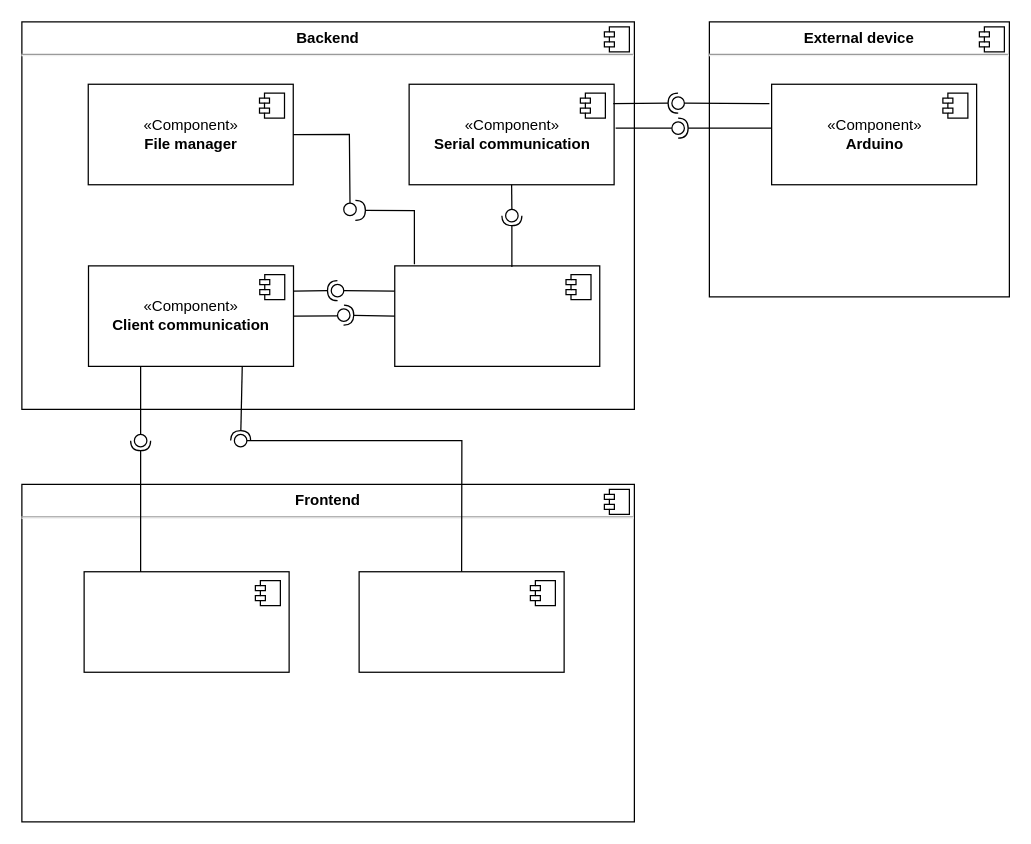
The diagram is 1031 pixels wide and 844 high, and some of its shapes have lost their labels. The centre of each missing label's shape, as x and y in pixels:
"«Component» Data manager" belongs at [497,315].
"«Component» Graph visualization" belongs at [186,621].
"«Component» Settings" belongs at [461,621].
